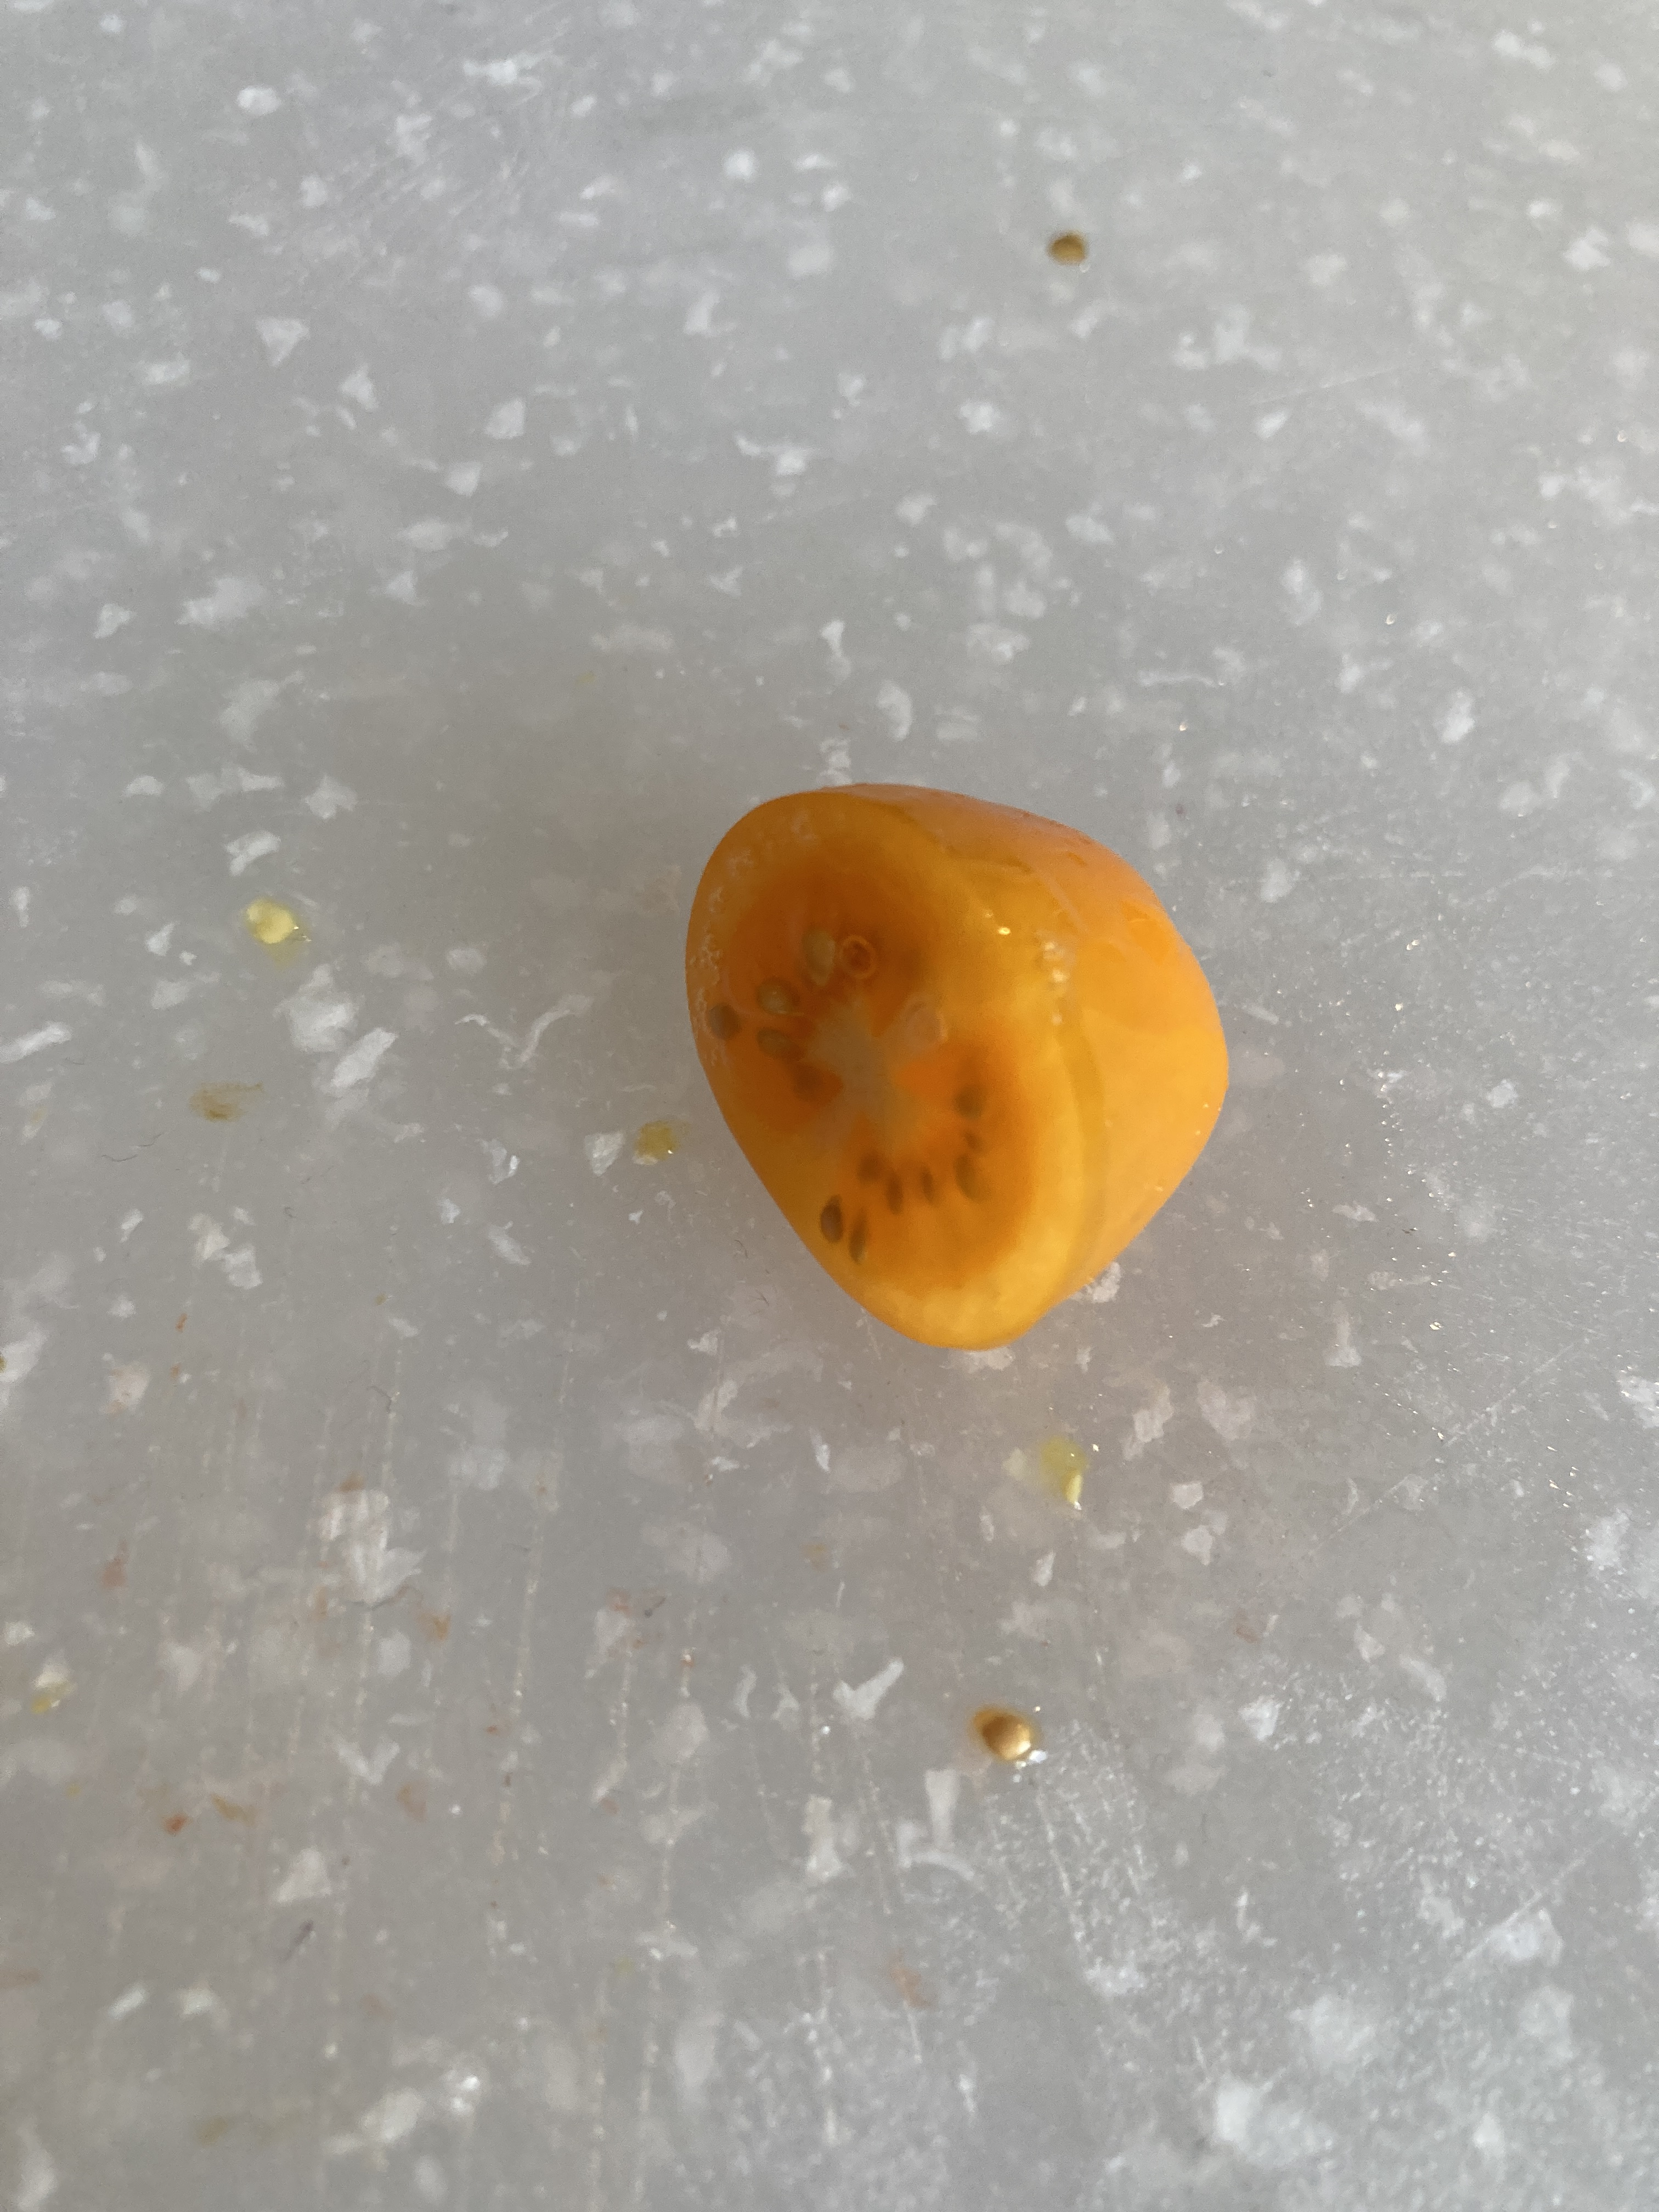healthy-tomato: (669, 777, 1232, 1357)
